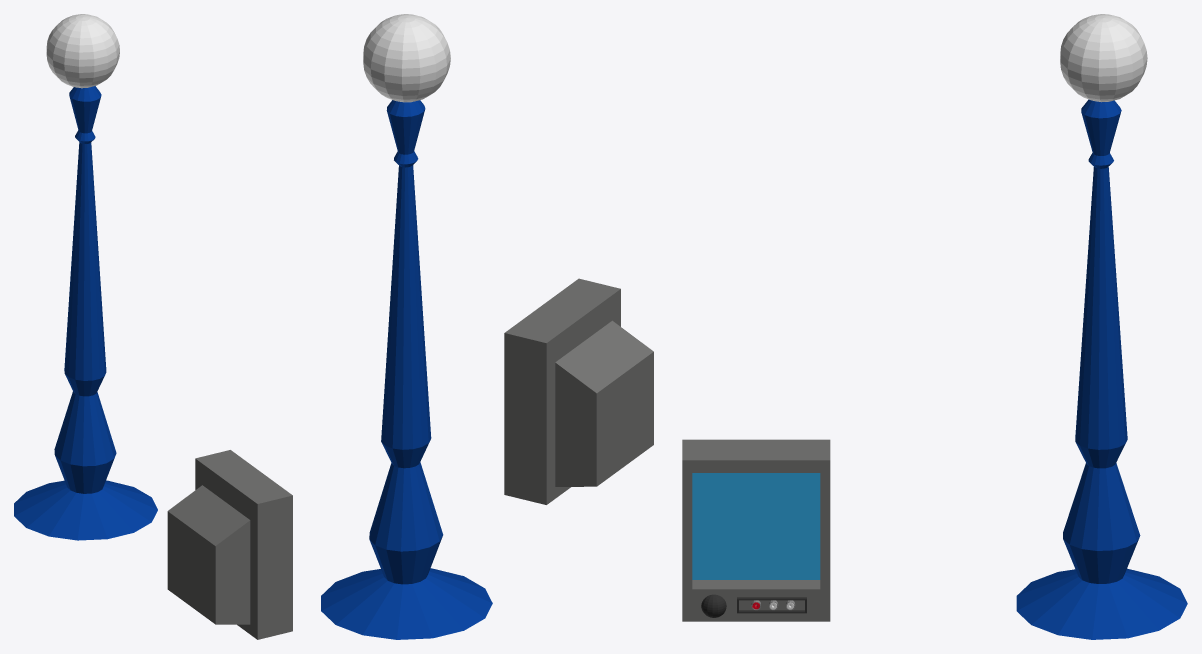
Rendered from lamp.fbx.
3 renders of one model, left to right at view 1: azimuth 30°, elevation 25°; view 2: azimuth 150°, elevation 25°; view 3: azimuth 270°, elevation 25°, orthographic. The views are drawn at different scales.
Parts seen in each view (by area): view 1: Base, TV, SpotLight; view 2: Base, TV, SpotLight; view 3: Base, TV, SpotLight.
Part boxes in pixels (x1,y1,x2,y2): Base: [14, 86, 157, 540]; TV: [167, 450, 292, 639]; SpotLight: [46, 14, 119, 88]; Base: [321, 100, 492, 639]; TV: [504, 278, 653, 504]; SpotLight: [363, 14, 450, 102]; Base: [1016, 99, 1187, 639]; TV: [682, 439, 830, 621]; SpotLight: [1060, 14, 1147, 102].
Size of the model in its own units: 302 by 1133 by 888.
